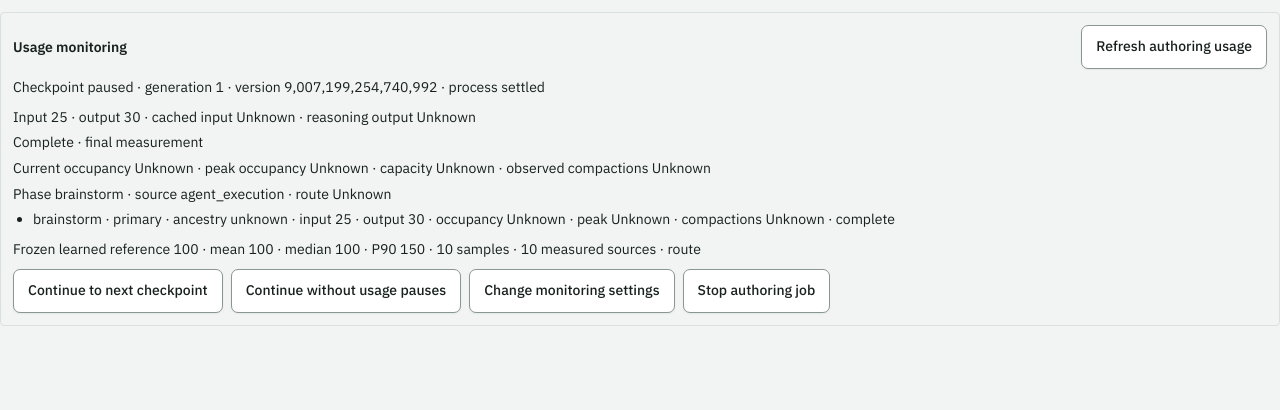
sends high authoring next-checkpoint mode and accepts exact result version
Click the button "Continue to next checkpoint".
click(118, 291)  # box 13,269 -> 223,313
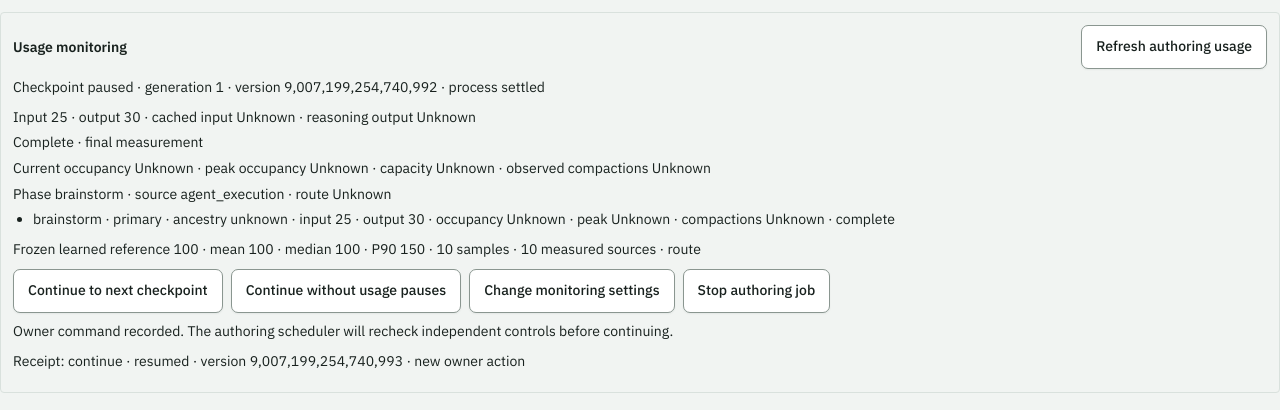
Result: the text "Owner command recorded" is shown at 13,322 -> 673,340
